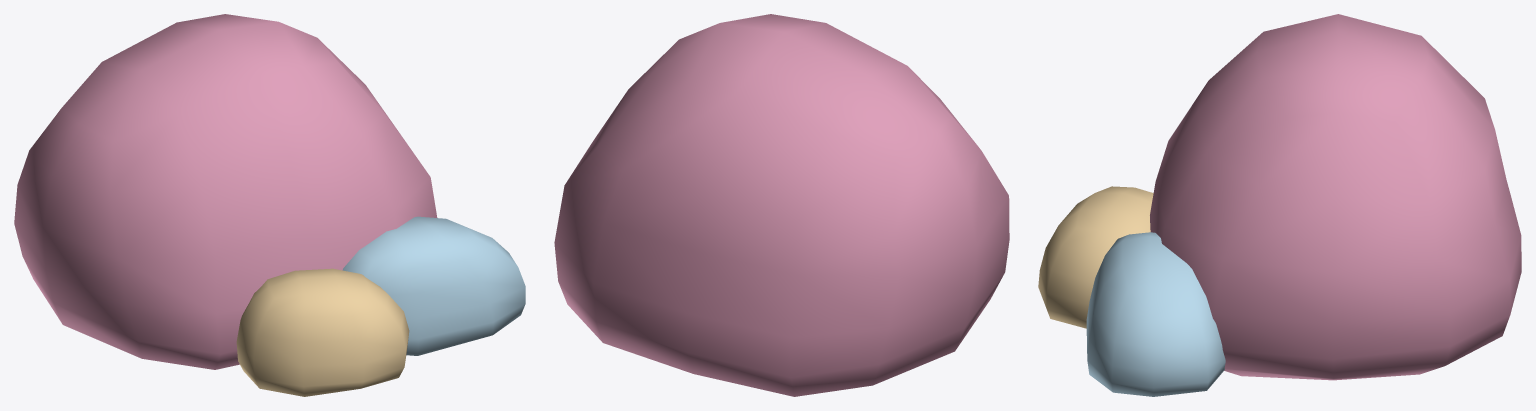
Rendered from roccetta_dream.fbx.
The picture shows the model from 3 angles, left to right: view 1: azimuth 30°, elevation 25°; view 2: azimuth 150°, elevation 25°; view 3: azimuth 270°, elevation 25°; orthographic projection. The views are drawn at different scales.
Visible parts, largest first — view 1: roccia_main, roccia_sx, roccia_dx; view 2: roccia_main; view 3: roccia_main, roccia_dx, roccia_sx.
Boxes of the visible parts, x1,y1,x2,y2 form: roccia_main: (14,14,437,369); roccia_sx: (236,268,409,396); roccia_dx: (342,216,525,355); roccia_main: (554,14,1009,396); roccia_main: (1150,14,1521,380); roccia_dx: (1086,232,1225,396); roccia_sx: (1038,186,1153,328).
Bounding box in the file's own units: 1.31 × 0.8581 × 1.37.
